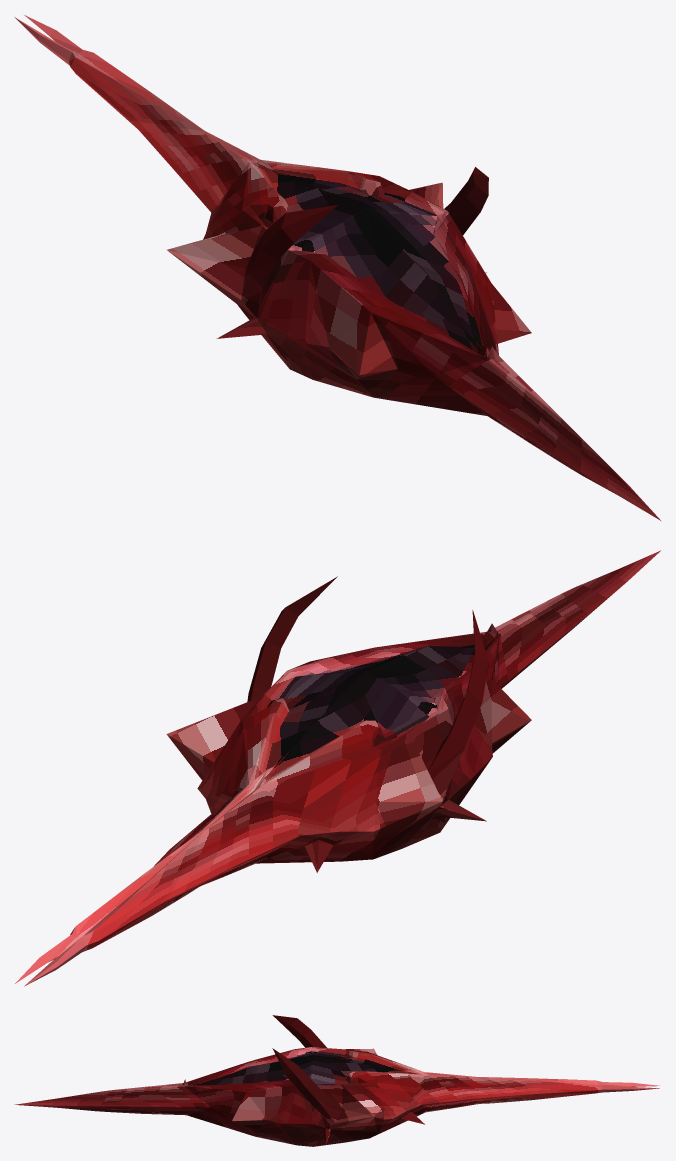
Rendered from asset.glb.
3 renders of one model, top to bottom at view 1: azimuth 30°, elevation 25°; view 2: azimuth 150°, elevation 25°; view 3: azimuth 270°, elevation 25°, orthographic. The views are drawn at different scales.
Visible parts, largest first — view 1: world; view 2: world; view 3: world.
Boxes of the visible parts, <box> form: world: <box>14,15,660,520</box>; world: <box>15,550,660,986</box>; world: <box>14,1015,659,1146</box>.
Bounding box in the file's own units: 0.3403 × 0.2403 × 1.37.
1 material, 1 textured.
